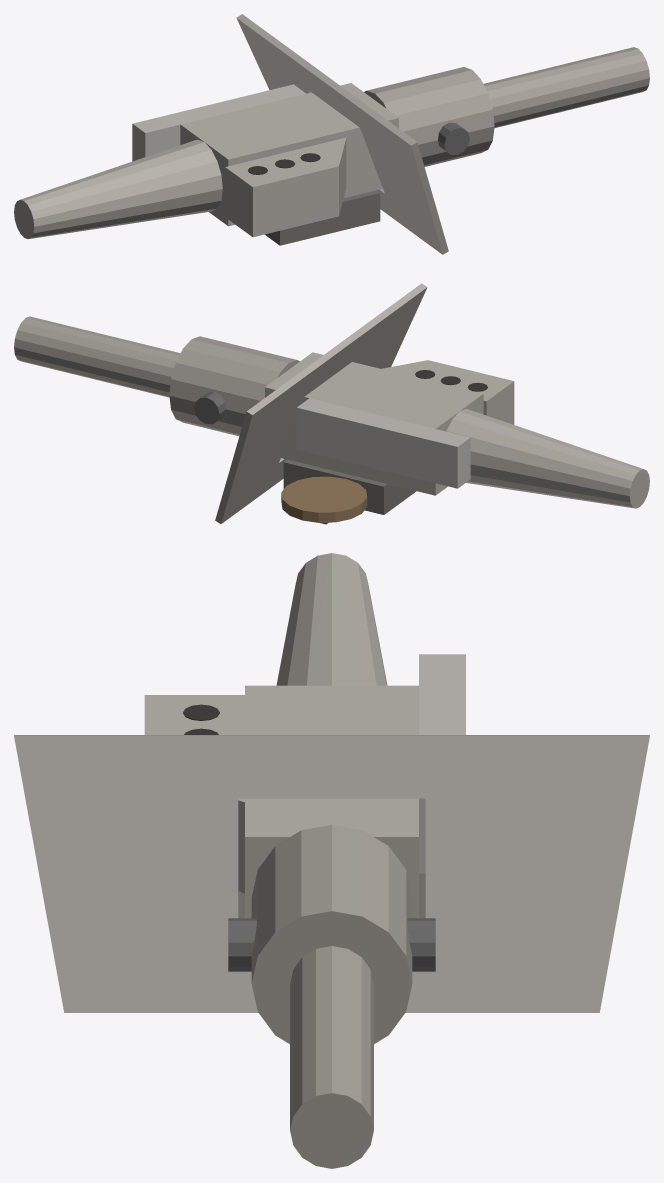
File: ce_flak_gun.obj
The picture shows the model from 3 angles, top to bottom: view 1: azimuth 30°, elevation 25°; view 2: azimuth 150°, elevation 25°; view 3: azimuth 270°, elevation 25°; orthographic projection. The views are drawn at different scales.
Parts seen in each view (by area): view 1: ce_flak_gun_cone, ce_flak_gun_breech, ce_flak_gun_fuze_box, ce_flak_gun_barrel, ce_flak_gun_cradle, ce_flak_gun_shield_r, ce_flak_gun_upper_box, ce_flak_gun_shield_l, ce_flak_gun_carriage, ce_flak_gun_shield_top, ce_flak_gun_trunnion-1; view 2: ce_flak_gun_cone, ce_flak_gun_breech, ce_flak_gun_upper_box, ce_flak_gun_barrel, ce_flak_gun_cradle, ce_flak_gun_shield_l, ce_flak_gun_seat, ce_flak_gun_shield_r, ce_flak_gun_fuze_box, ce_flak_gun_carriage, ce_flak_gun_shield_top, ce_flak_gun_trunnion1; view 3: ce_flak_gun_shield_l, ce_flak_gun_shield_r, ce_flak_gun_cradle, ce_flak_gun_breech, ce_flak_gun_barrel, ce_flak_gun_shield_top, ce_flak_gun_cone, ce_flak_gun_upper_box, ce_flak_gun_fuze_box, ce_flak_gun_trunnion1, ce_flak_gun_trunnion-1, ce_flak_gun_shield_low.
Part boxes in pixels (x1=…): ce_flak_gun_cone: x1=14, y1=139, x2=222, y2=239; ce_flak_gun_breech: x1=180, y1=83, x2=398, y2=226; ce_flak_gun_fuze_box: x1=225, y1=137, x2=346, y2=237; ce_flak_gun_barrel: x1=483, y1=47, x2=649, y2=128; ce_flak_gun_cradle: x1=364, y1=67, x2=494, y2=166; ce_flak_gun_shield_r: x1=350, y1=97, x2=448, y2=254; ce_flak_gun_upper_box: x1=132, y1=84, x2=305, y2=161; ce_flak_gun_shield_l: x1=236, y1=14, x2=311, y2=93; ce_flak_gun_carriage: x1=265, y1=190, x2=380, y2=245; ce_flak_gun_shield_top: x1=298, y1=59, x2=359, y2=127; ce_flak_gun_trunnion-1: x1=438, y1=122, x2=469, y2=154; ce_flak_gun_cone: x1=446, y1=409, x2=649, y2=508; ce_flak_gun_breech: x1=265, y1=352, x2=483, y2=495; ce_flak_gun_upper_box: x1=296, y1=398, x2=470, y2=488; ce_flak_gun_barrel: x1=14, y1=316, x2=180, y2=397; ce_flak_gun_cradle: x1=169, y1=336, x2=299, y2=436; ce_flak_gun_shield_l: x1=215, y1=366, x2=313, y2=523; ce_flak_gun_seat: x1=281, y1=476, x2=367, y2=522; ce_flak_gun_shield_r: x1=352, y1=283, x2=427, y2=368; ce_flak_gun_fuze_box: x1=381, y1=360, x2=514, y2=424; ce_flak_gun_carriage: x1=283, y1=459, x2=416, y2=514; ce_flak_gun_shield_top: x1=304, y1=329, x2=365, y2=396; ce_flak_gun_trunnion1: x1=194, y1=392, x2=225, y2=424; ce_flak_gun_shield_l: x1=425, y1=735, x2=649, y2=1012; ce_flak_gun_shield_r: x1=14, y1=735, x2=238, y2=1012; ce_flak_gun_cradle: x1=251, y1=825, x2=412, y2=1043; ce_flak_gun_breech: x1=245, y1=685, x2=418, y2=918; ce_flak_gun_barrel: x1=290, y1=946, x2=373, y2=1168; ce_flak_gun_shield_top: x1=238, y1=735, x2=425, y2=798; ce_flak_gun_cone: x1=276, y1=553, x2=387, y2=685; ce_flak_gun_upper_box: x1=419, y1=654, x2=465, y2=873; ce_flak_gun_fuze_box: x1=144, y1=695, x2=244, y2=893; ce_flak_gun_trunnion1: x1=407, y1=918, x2=435, y2=971; ce_flak_gun_trunnion-1: x1=228, y1=918, x2=256, y2=971; ce_flak_gun_shield_low: x1=238, y1=971, x2=425, y2=1012.
Bounding box in the file's own units: 3.85 × 0.7937 × 1.9.
